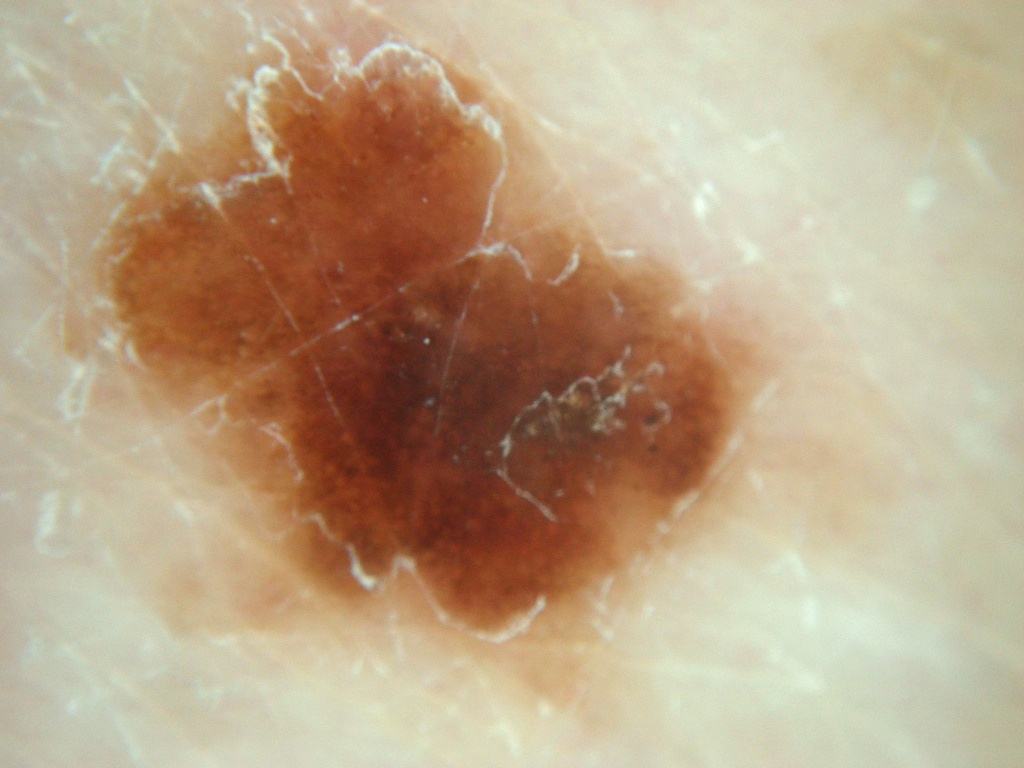Detected Lesion: (53, 28, 757, 653)
